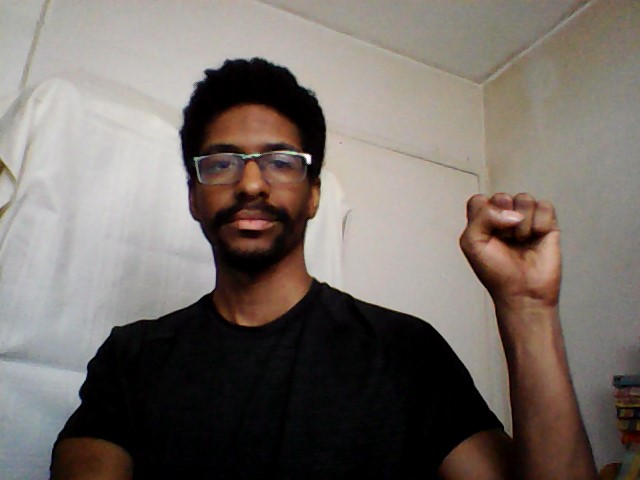s: (455, 188, 566, 310)
